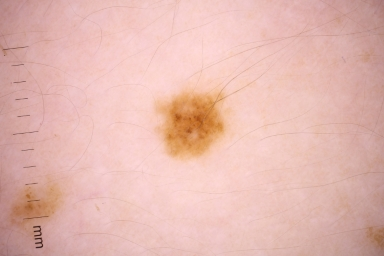nevus: (162, 93, 227, 159)
